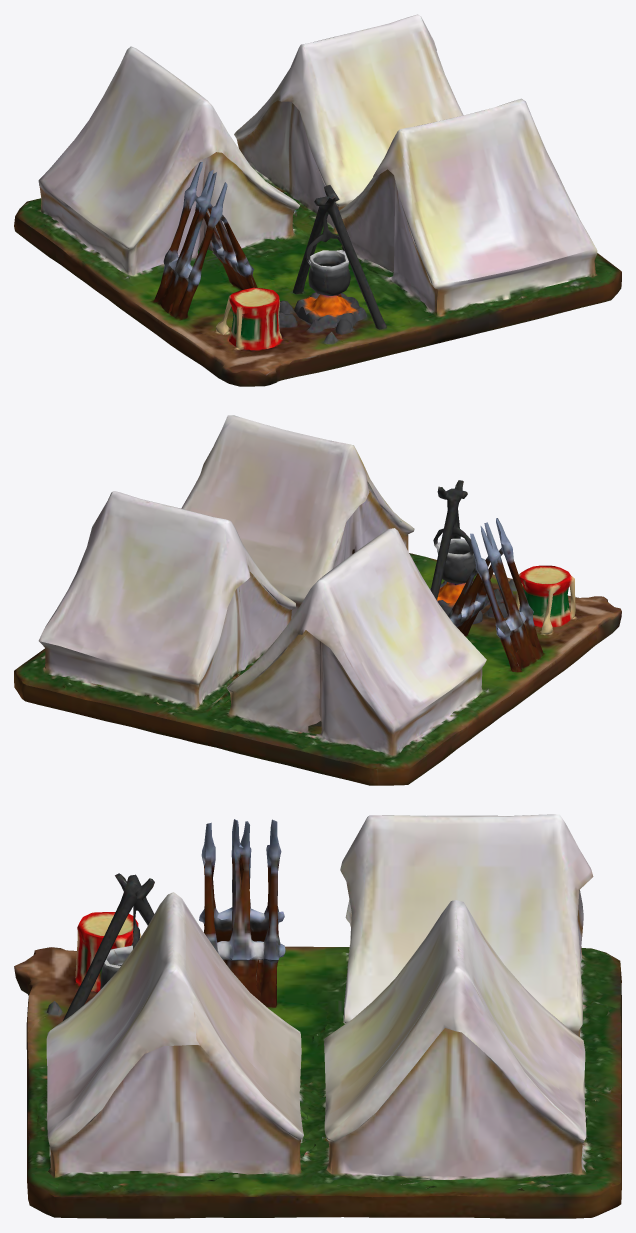
Rendered from camp_b.glb.
3 views of the same model, one above another, from view 1: azimuth 30°, elevation 25°; view 2: azimuth 150°, elevation 25°; view 3: azimuth 270°, elevation 25° (orthographic). The views are drawn at different scales.
Visible parts, largest first — view 1: world; view 2: world; view 3: world.
Part boxes in pixels (left/top/right/bottom): world: left=14, top=14, right=621, bottom=386; world: left=14, top=415, right=621, bottom=785; world: left=14, top=814, right=621, bottom=1218.
Bounding box in the file's own units: 0.976 × 0.401 × 1.
Materials: 1 (1 with a texture image).
